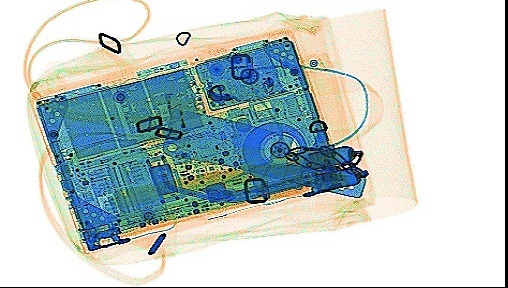knife: (159, 105, 366, 197)
